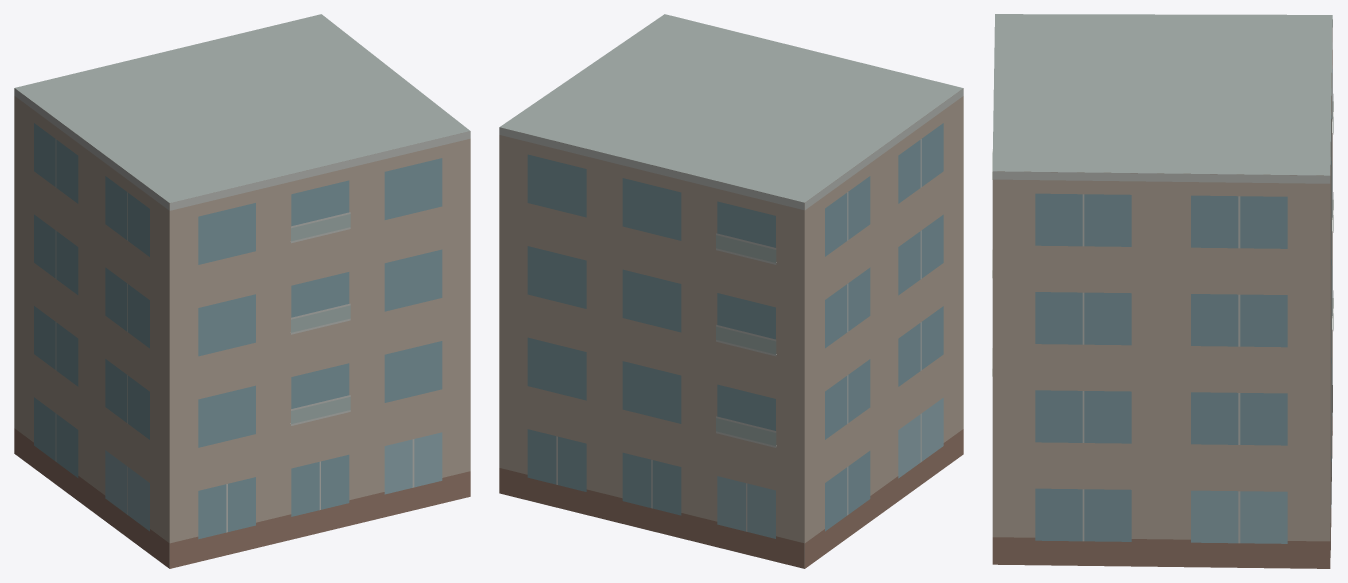
File: survey-upis-32598734.glb
3 views of the same model, side by side, from view 1: azimuth 30°, elevation 25°; view 2: azimuth 150°, elevation 25°; view 3: azimuth 270°, elevation 25° (orthographic). The views are drawn at different scales.
Visible parts, largest first — view 1: survey-upis-32598734.tmp; view 2: survey-upis-32598734.tmp; view 3: survey-upis-32598734.tmp.
Part boxes in pixels (left/top/right/bottom): survey-upis-32598734.tmp: left=14, top=14, right=470, bottom=568; survey-upis-32598734.tmp: left=499, top=14, right=963, bottom=568; survey-upis-32598734.tmp: left=992, top=14, right=1333, bottom=568.
Size of the model in its own units: 10.23 by 11.6 by 9.14.
